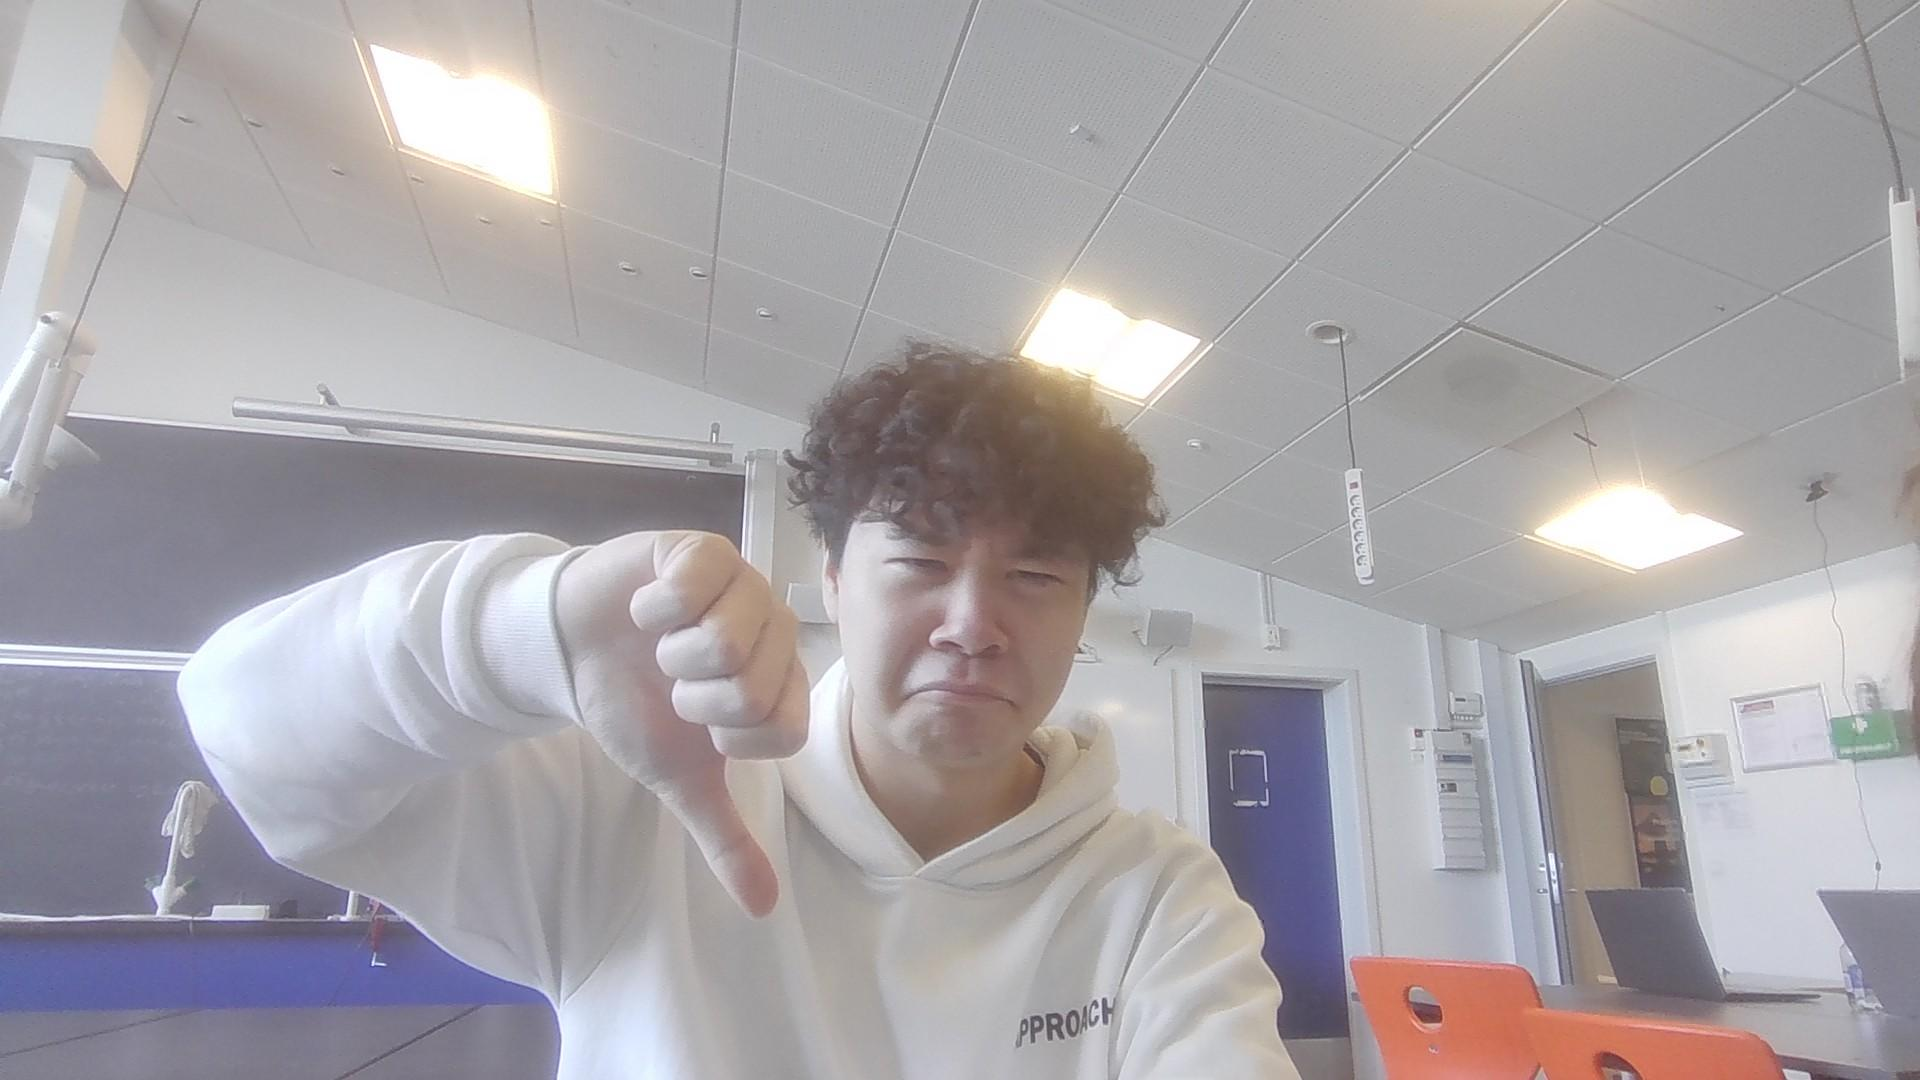thumbs down: (553, 524, 812, 923)
